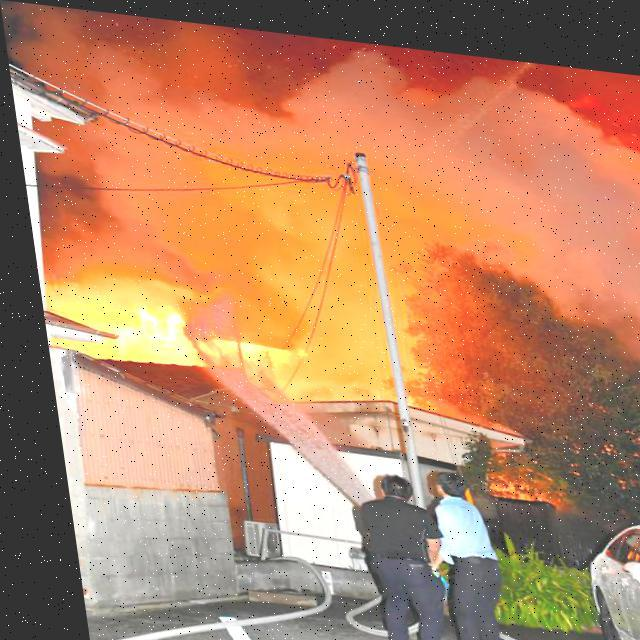Fire: (74, 138, 358, 384)
